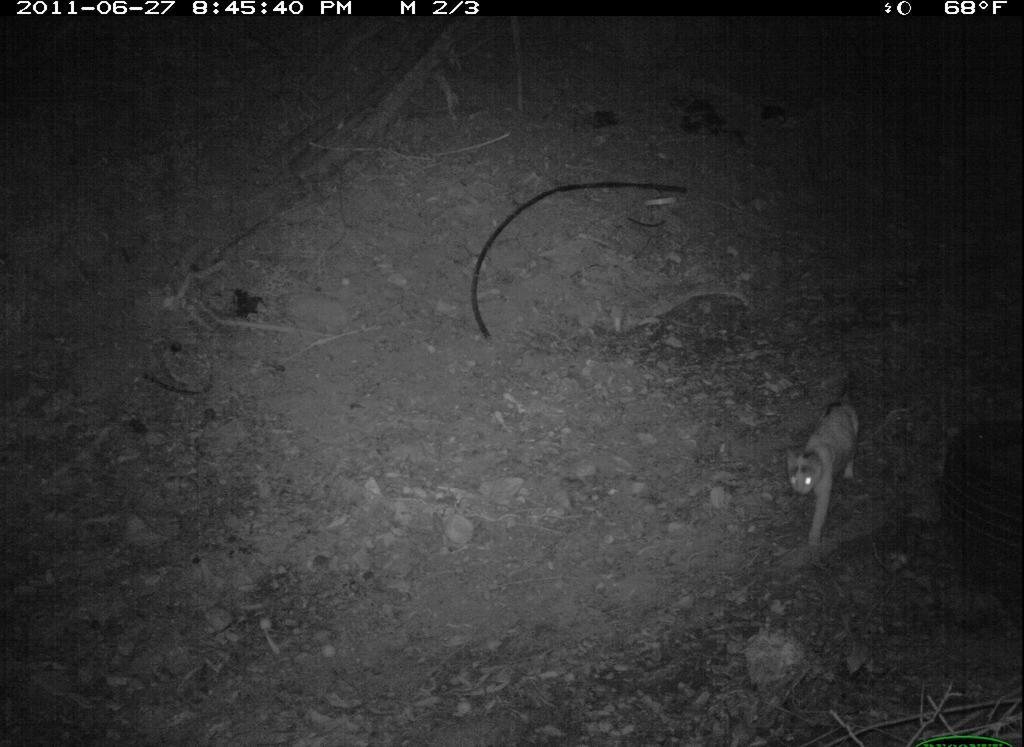cat: (777, 365, 876, 561)
